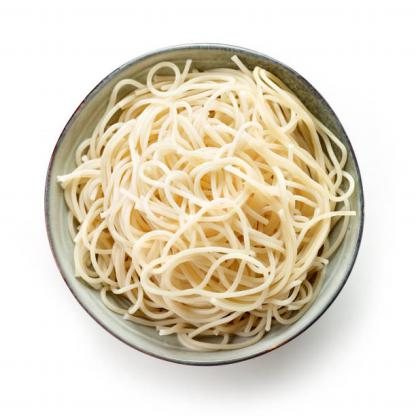Noodles: (55, 54, 356, 351)
